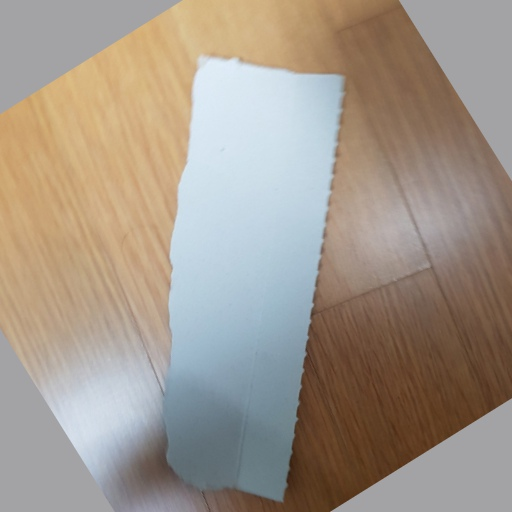Paper_2: (168, 51, 355, 509)
